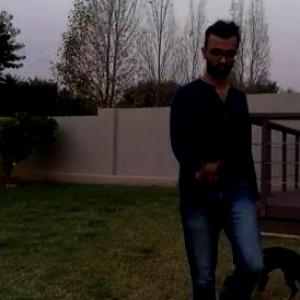takeoff-hand: (188, 154, 229, 193)
